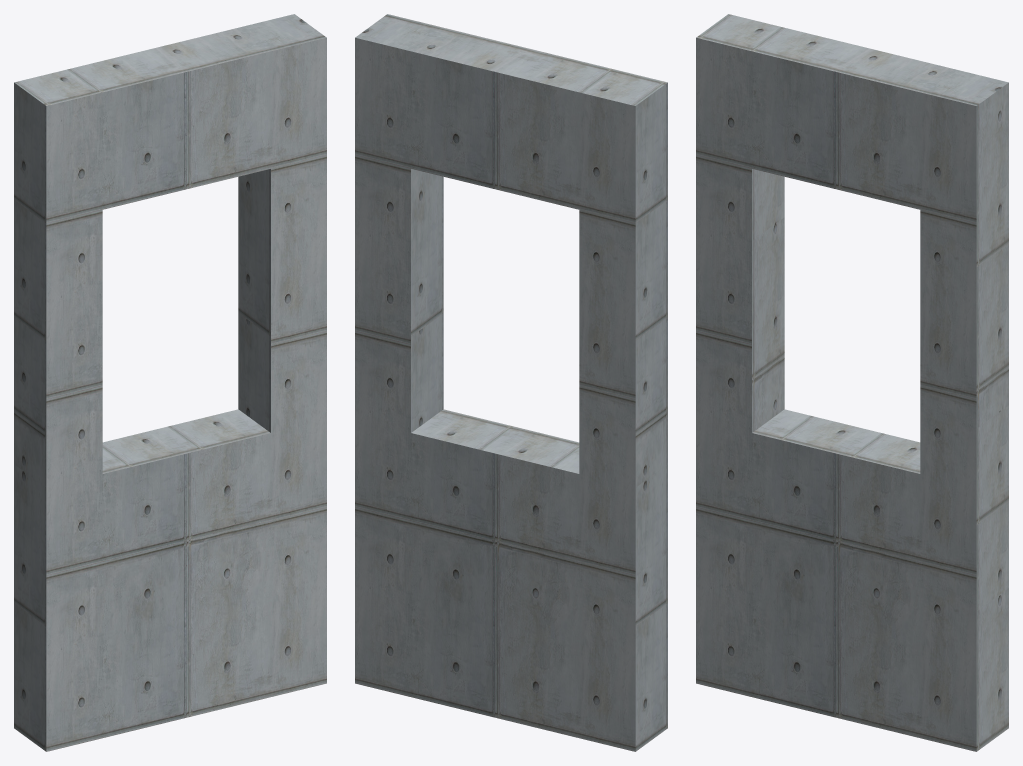
File: FragmentedWindow.fbx
3 renders of one model, left to right at view 1: azimuth 30°, elevation 25°; view 2: azimuth 150°, elevation 25°; view 3: azimuth 330°, elevation 25°, orthographic.
Parts seen in each view (by area): view 1: Group9, Group13, Group8, Group11, Group4, Group2, Group6, Group10, Group7, Group3, Group12, Group5 (+1 smaller); view 2: Group9, Group13, Group8, Group11, Group4, Group2, Group6, Group10, Group7, Group3, Group12, Group5 (+1 smaller); view 3: Group9, Group7, Group6, Group11, Group8, Group3, Group4, Group2, Group13, Group10, Group5, Group14 (+1 smaller).
Part boxes in pixels (left/top/right/bottom): Group9: left=14, top=526, right=224, bottom=751; Group13: left=14, top=69, right=164, bottom=223; Group8: left=102, top=427, right=275, bottom=609; Group11: left=14, top=282, right=102, bottom=487; Group4: left=238, top=169, right=326, bottom=360; Group2: left=67, top=14, right=326, bottom=119; Group6: left=167, top=409, right=326, bottom=576; Group10: left=14, top=449, right=128, bottom=626; Group7: left=224, top=543, right=326, bottom=708; Group3: left=231, top=38, right=326, bottom=198; Group12: left=14, top=200, right=102, bottom=340; Group5: left=238, top=313, right=326, bottom=456; Group9: left=457, top=526, right=667, bottom=751; Group13: left=517, top=69, right=667, bottom=223; Group8: left=406, top=427, right=579, bottom=609; Group11: left=579, top=282, right=667, bottom=487; Group4: left=355, top=169, right=443, bottom=360; Group2: left=355, top=14, right=614, bottom=119; Group6: left=355, top=409, right=514, bottom=576; Group10: left=553, top=449, right=667, bottom=626; Group7: left=355, top=543, right=457, bottom=708; Group3: left=355, top=38, right=450, bottom=198; Group12: left=579, top=200, right=667, bottom=340; Group5: left=355, top=313, right=443, bottom=456; Group9: left=696, top=498, right=873, bottom=726; Group7: left=873, top=588, right=1008, bottom=751; Group6: left=849, top=433, right=1008, bottom=619; Group11: left=696, top=217, right=784, bottom=432; Group8: left=778, top=415, right=924, bottom=628; Group3: left=881, top=82, right=1008, bottom=267; Group4: left=920, top=210, right=1008, bottom=428; Group2: left=749, top=27, right=1008, bottom=141; Group13: left=696, top=14, right=814, bottom=168; Group10: left=696, top=409, right=809, bottom=557; Group5: left=920, top=378, right=1008, bottom=524; Group14: left=752, top=96, right=880, bottom=199.
Size of the model in its own units: 1 by 2.2 by 0.2.
